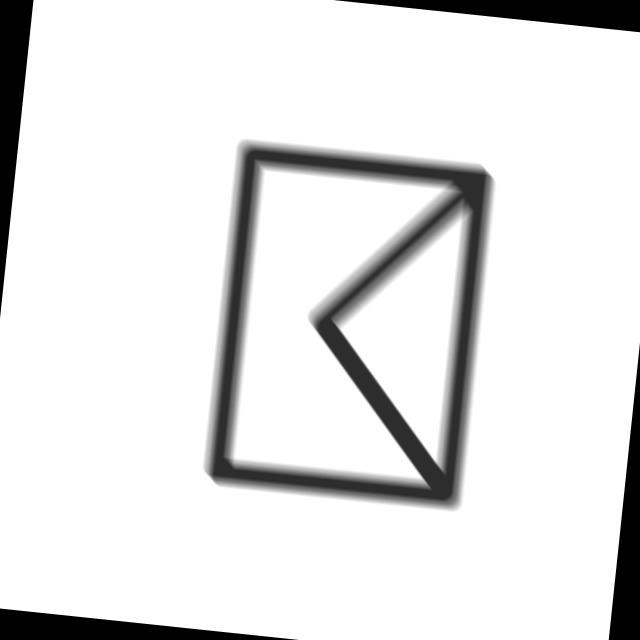letter: (195, 132, 502, 518)
